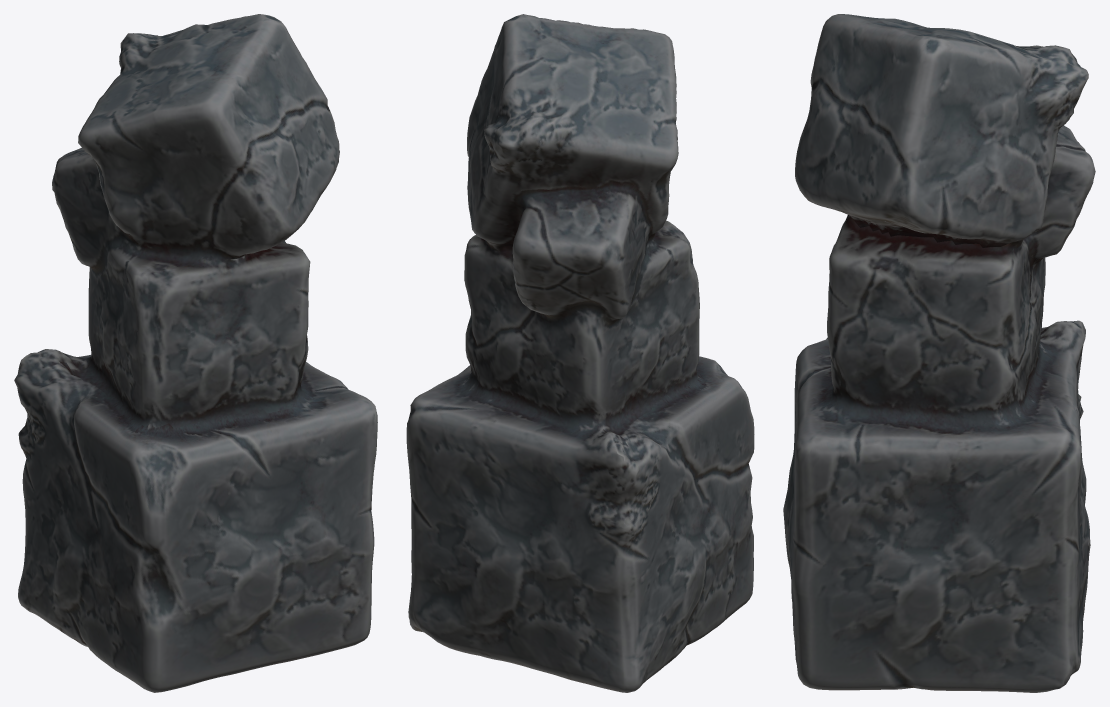
File: rock_tower.glb
3 views of the same model, side by side, from view 1: azimuth 30°, elevation 25°; view 2: azimuth 150°, elevation 25°; view 3: azimuth 270°, elevation 25° (orthographic). The views are drawn at different scales.
Visible parts, largest first — view 1: Object_2; view 2: Object_2; view 3: Object_2.
Boxes of the visible parts, bbox=[...] form: Object_2: bbox=[14, 14, 377, 692]; Object_2: bbox=[406, 14, 754, 692]; Object_2: bbox=[783, 14, 1095, 692].
Bounding box in the file's own units: 2.18 × 5.04 × 2.21.
Materials: 1 (1 with a texture image).
